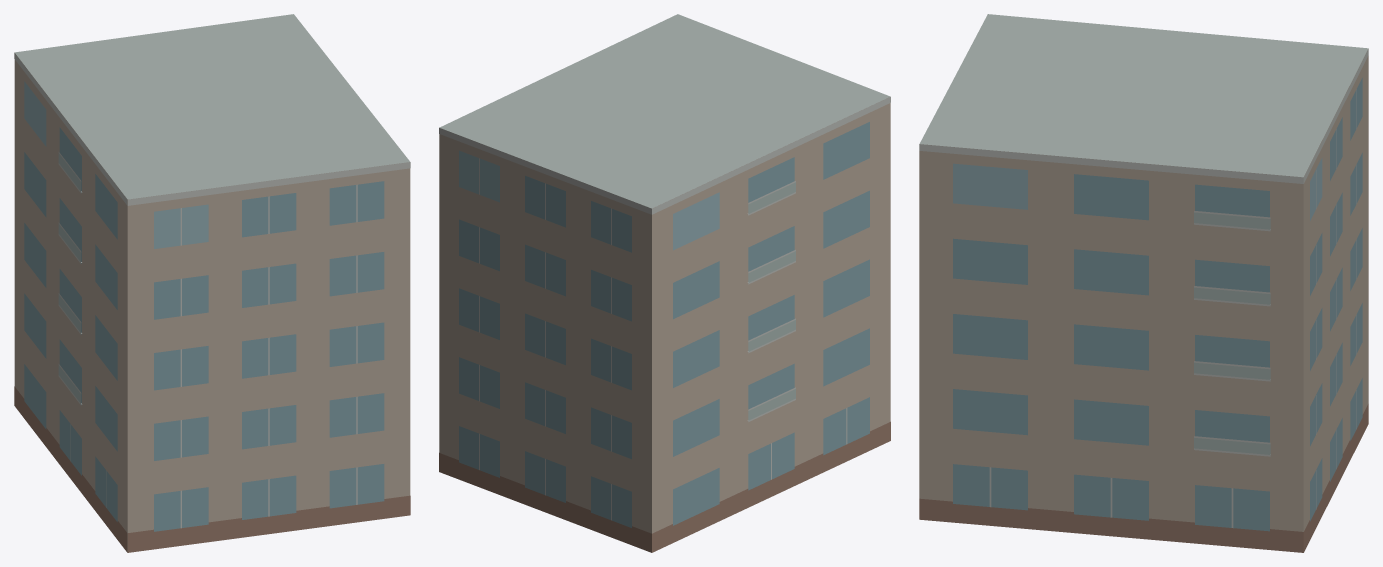
The model's file is survey-upis-32995414.glb.
3 renders of one model, left to right at view 1: azimuth 30°, elevation 25°; view 2: azimuth 150°, elevation 25°; view 3: azimuth 270°, elevation 25°, orthographic. The views are drawn at different scales.
Visible parts, largest first — view 1: survey-upis-32995414.tmp; view 2: survey-upis-32995414.tmp; view 3: survey-upis-32995414.tmp.
Boxes of the visible parts, bbox=[...] form: survey-upis-32995414.tmp: bbox=[14, 14, 410, 552]; survey-upis-32995414.tmp: bbox=[439, 14, 890, 552]; survey-upis-32995414.tmp: bbox=[919, 14, 1368, 552].
Size of the model in its own units: 12.6 by 13.5 by 14.64.
